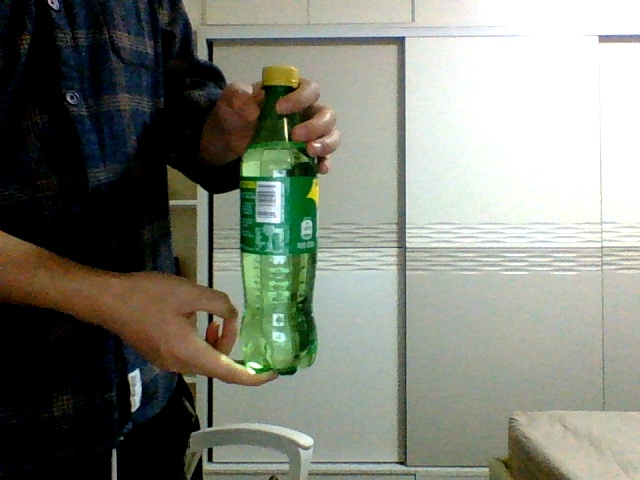Sprite: (238, 63, 319, 373)
